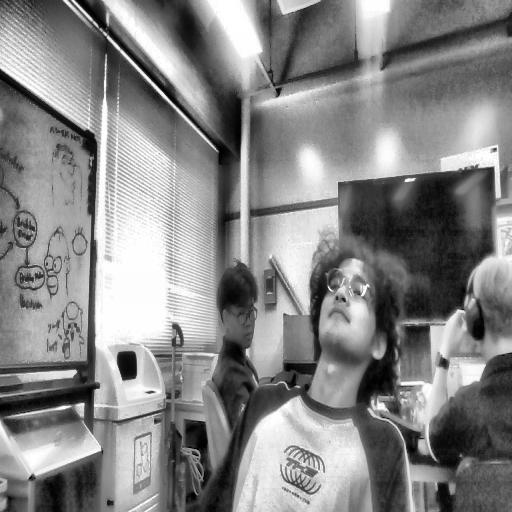Daifuku: (308, 228, 405, 392)
Not Daifuku: (468, 255, 512, 365), (217, 266, 260, 350)
